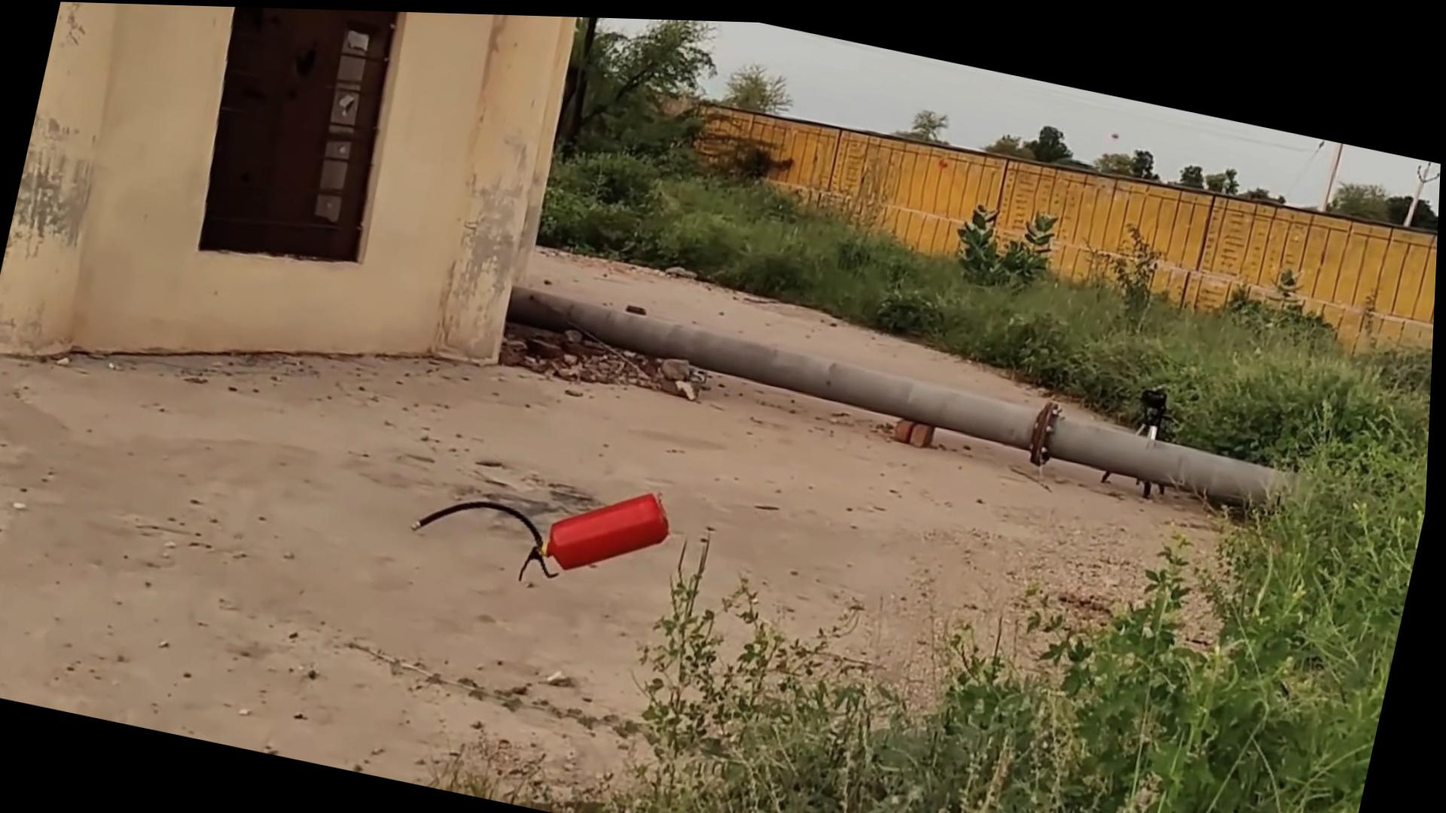FireExtinguisher: (502, 451, 696, 605)
